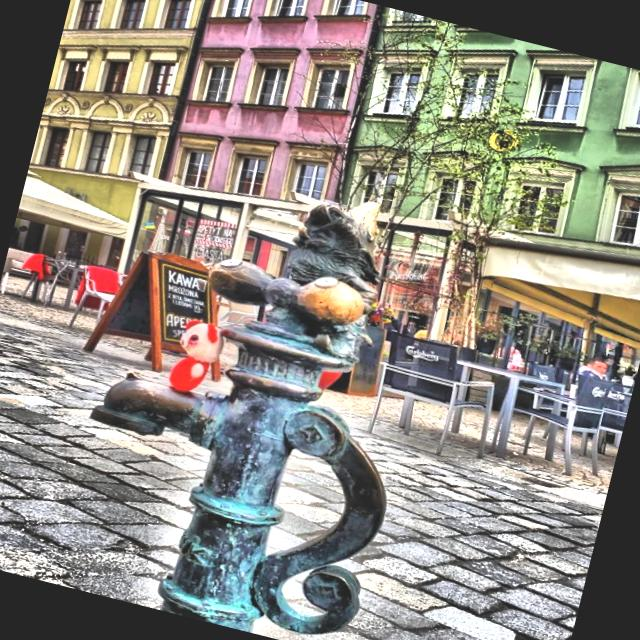Orzezwiacz: (90, 202, 385, 637)
